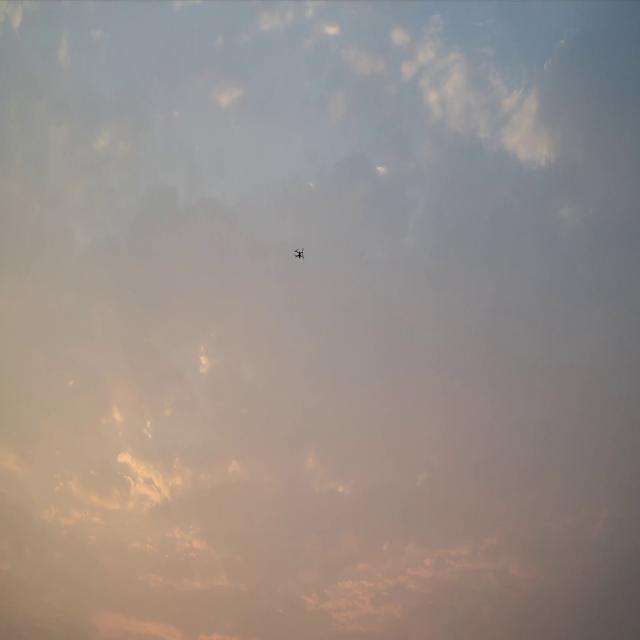UAV: (294, 246, 306, 260)
